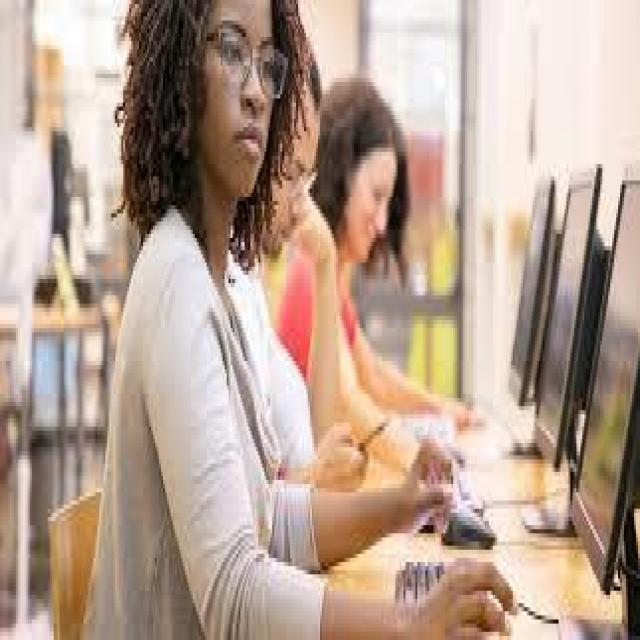person: (103, 0, 346, 628), (318, 24, 423, 427), (248, 8, 328, 316)
